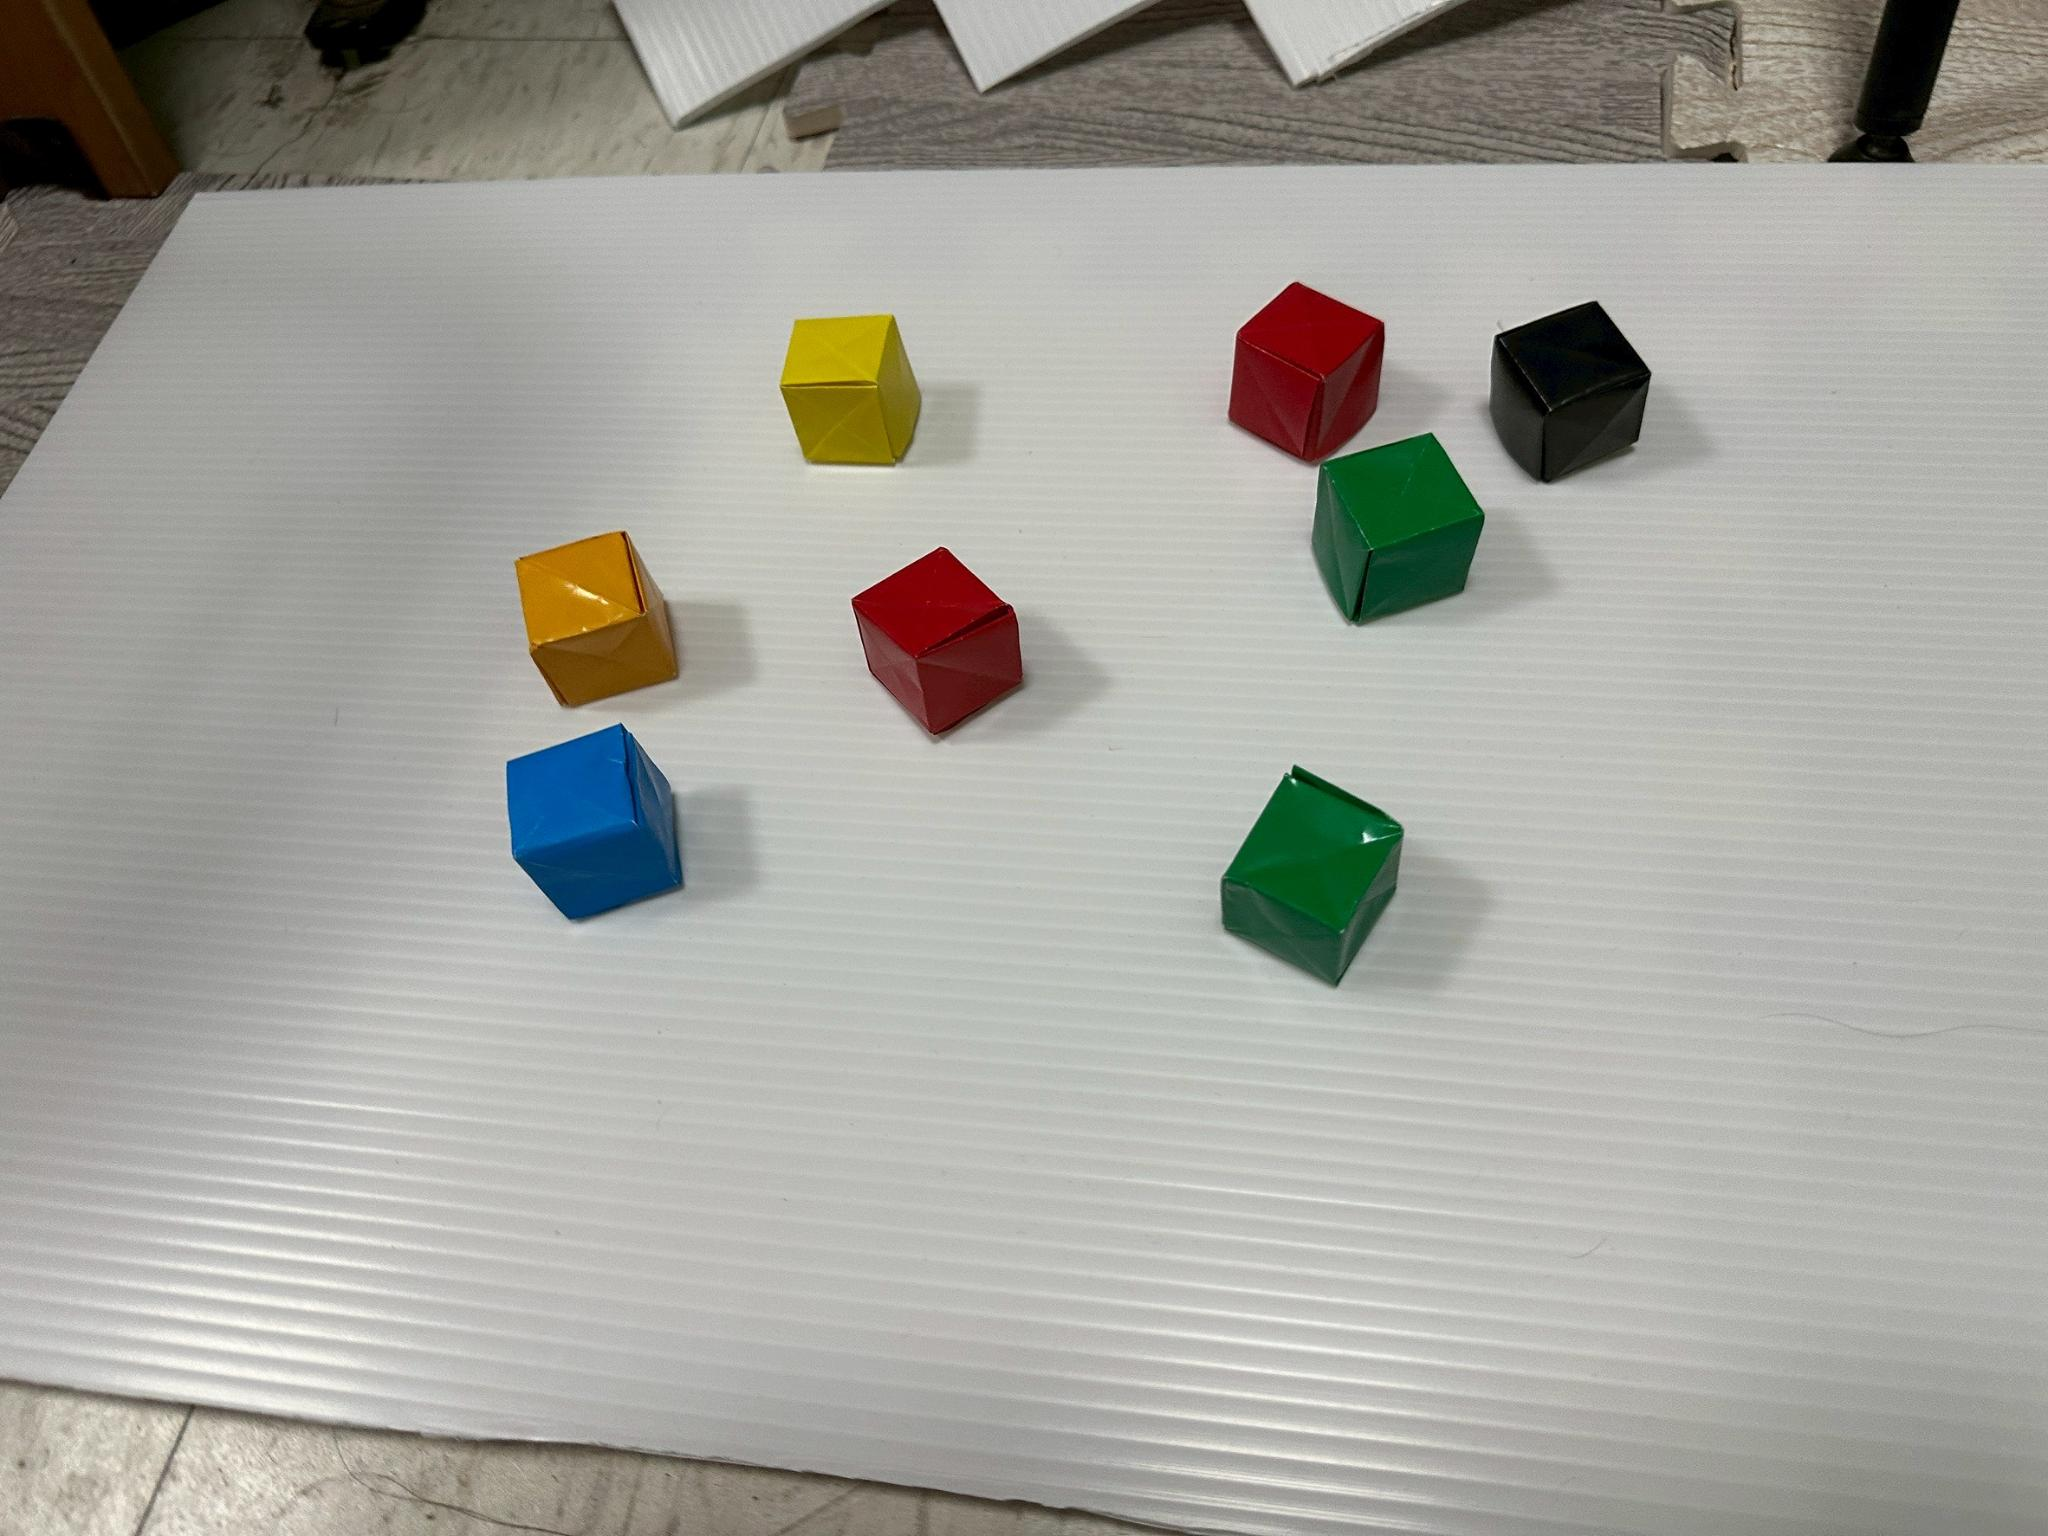cube: (1221, 768, 1401, 986), (506, 723, 682, 920), (1313, 432, 1484, 624), (853, 549, 1021, 733), (1492, 302, 1648, 482), (516, 531, 677, 705), (1229, 284, 1384, 461), (780, 313, 921, 465)
